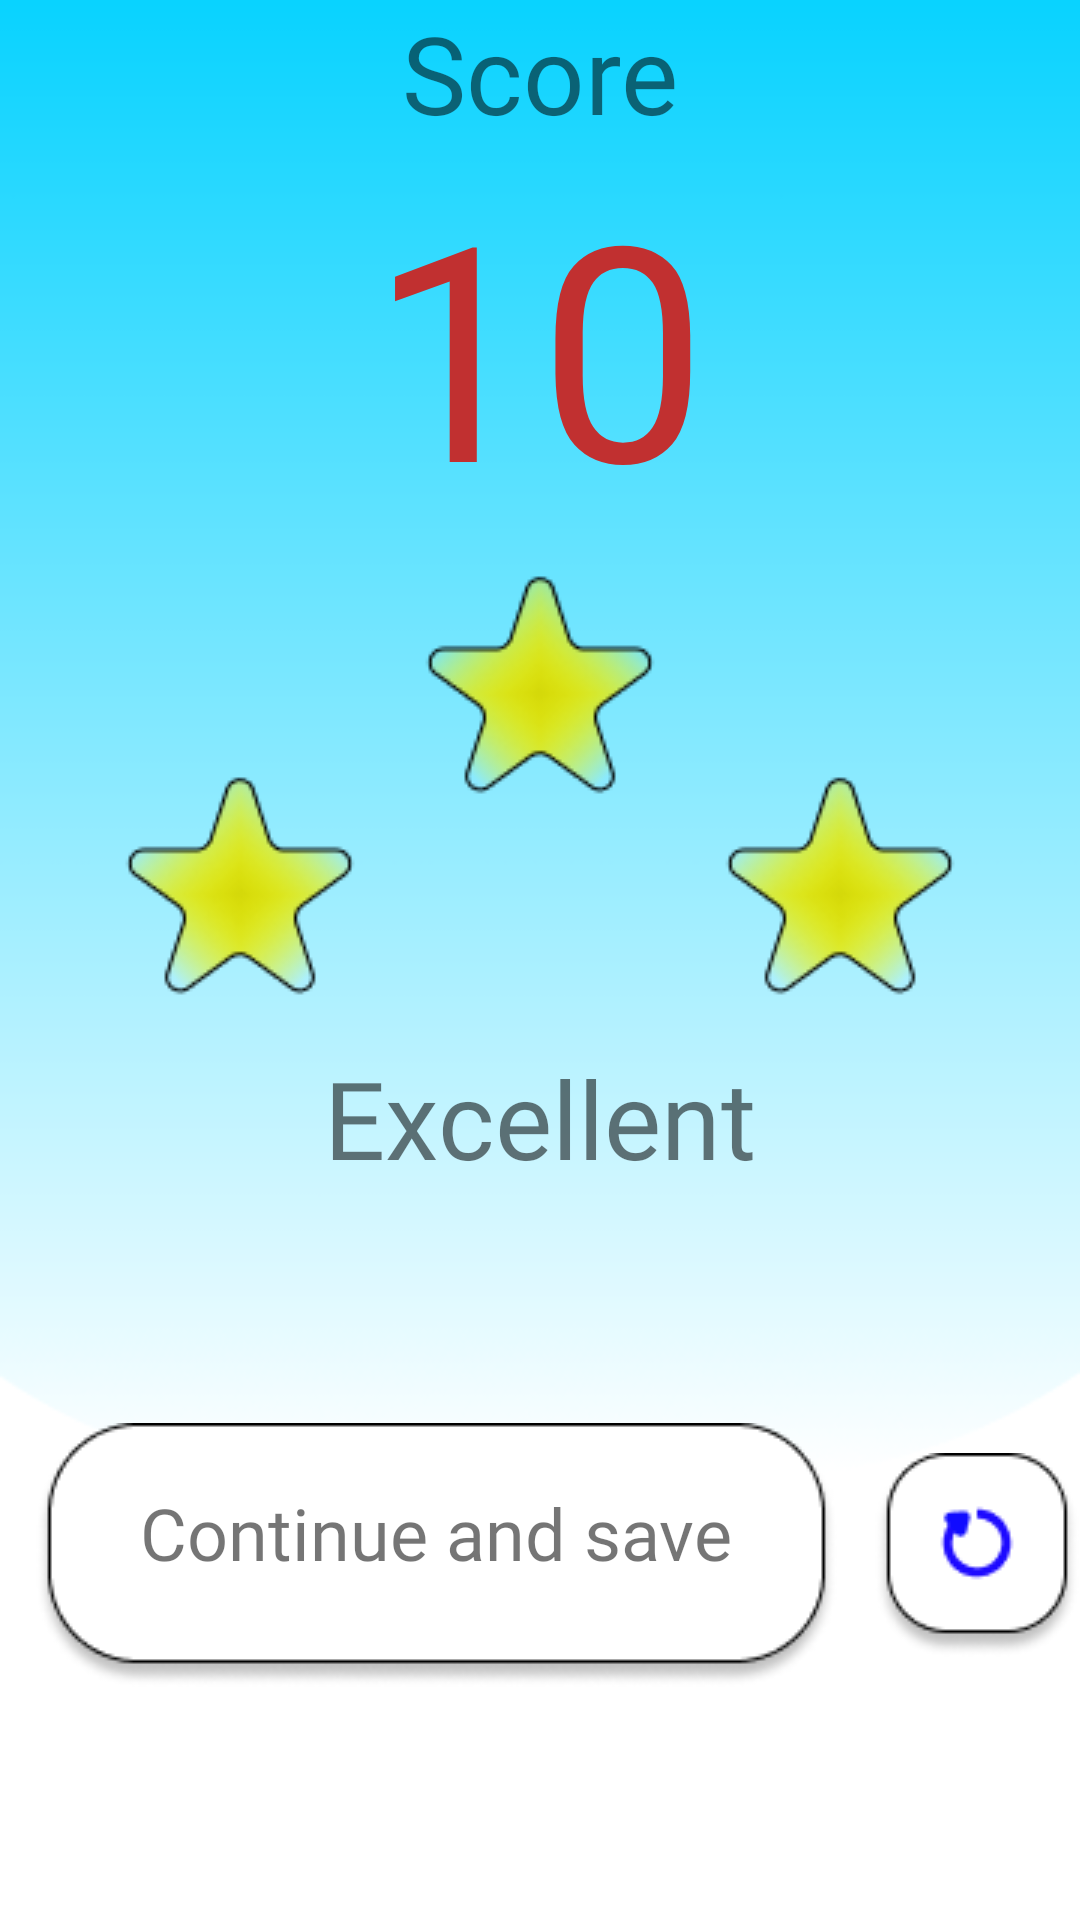

Icon click points for this 1080x1920 phone screenshot, format point (x, y):
reinicia: point (977, 1550)
